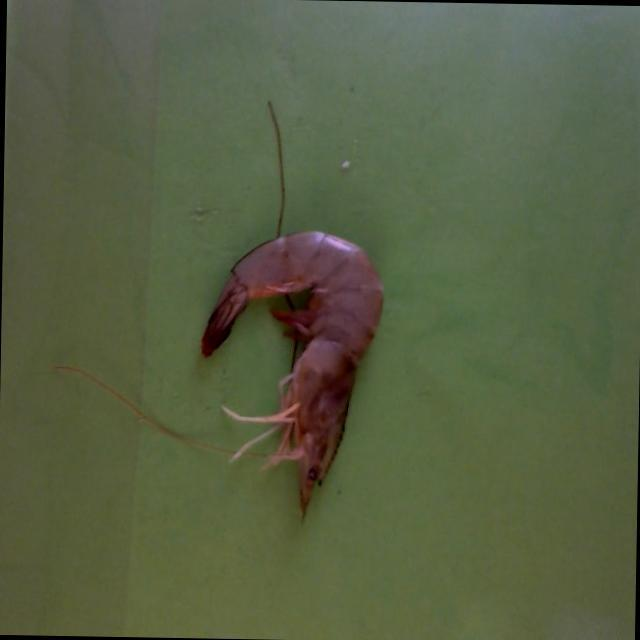shrimp: (200, 231, 381, 516)
